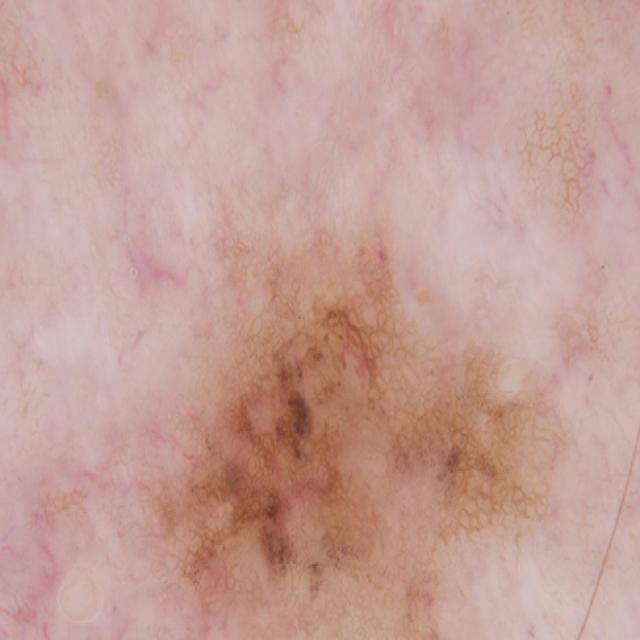Keratosis: (159, 230, 543, 640)
